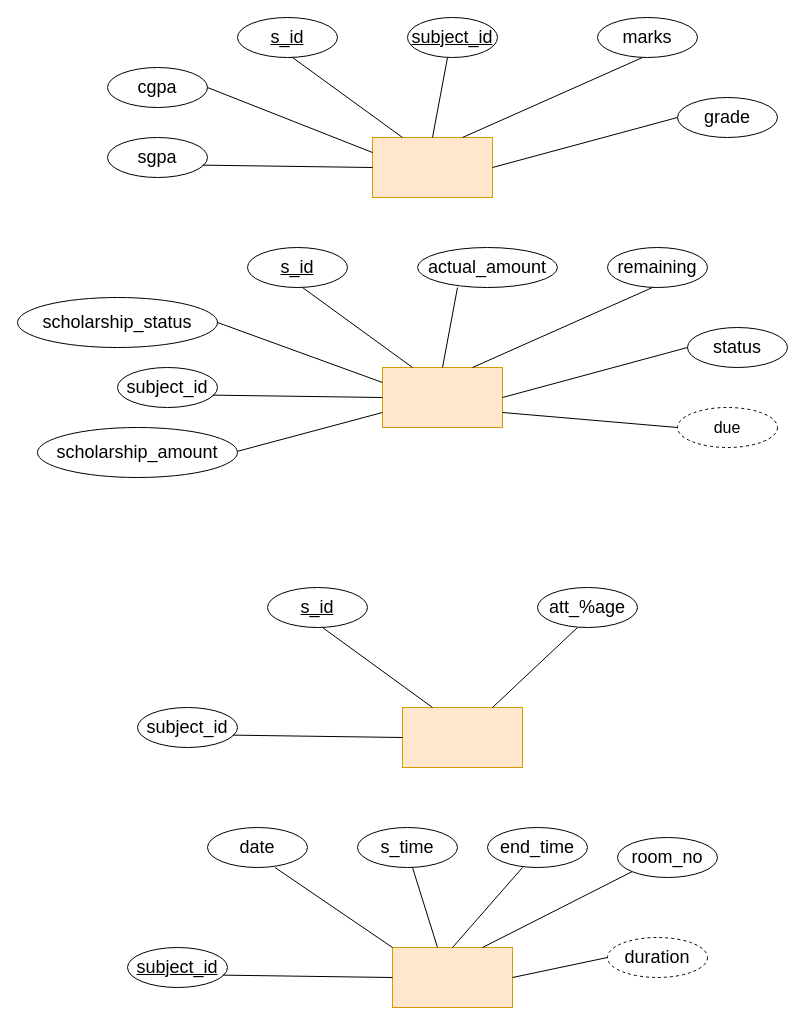
This 805x1025 diagram has some shape labels left out. The centre of each missing label's shape, as x and y in pixels:
"attendence" goes at (462,737).
"Fee" goes at (442,397).
"Result" goes at (432,167).
"timetable" goes at (452,977).
